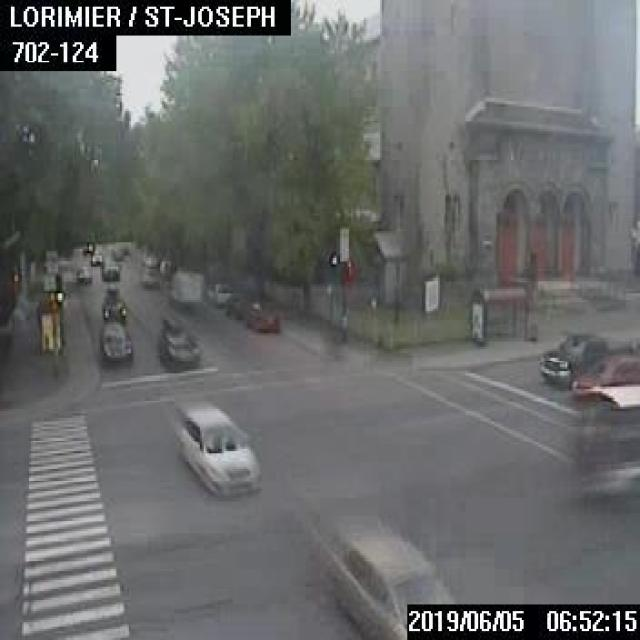vehicle: (329, 532, 459, 638), (178, 404, 258, 496), (539, 330, 638, 386), (157, 317, 198, 371), (571, 354, 638, 387), (166, 270, 201, 310), (98, 321, 131, 362), (246, 301, 277, 331), (101, 282, 124, 321), (223, 292, 247, 318), (99, 256, 120, 278), (206, 282, 227, 302), (140, 267, 158, 287), (75, 264, 91, 282), (90, 249, 100, 263), (143, 255, 155, 265)
